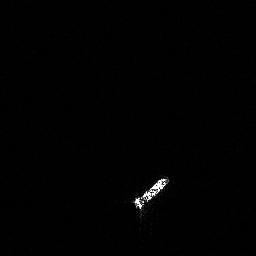ship: (134, 176, 169, 209)
